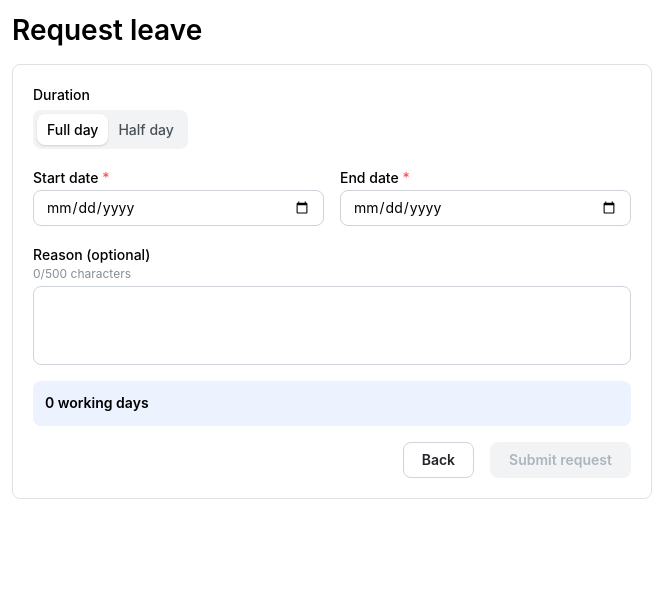
Test: NewRequest › shows server validation errors inline
Type "2026-11-02" into the date field labelled "Start date *". click: coordinates (178, 208)
box: [33, 190, 324, 226]
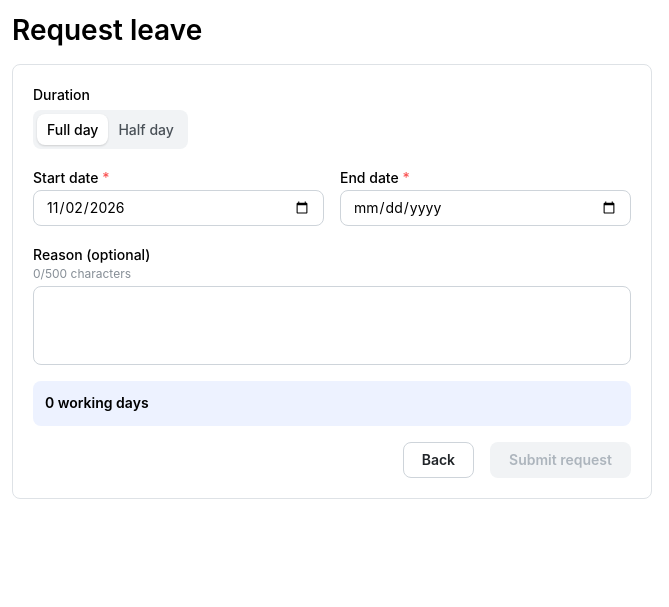
Type "2026-11-03" into the date field labelled "End date *". click: coordinates (486, 208)
box: [340, 190, 631, 226]
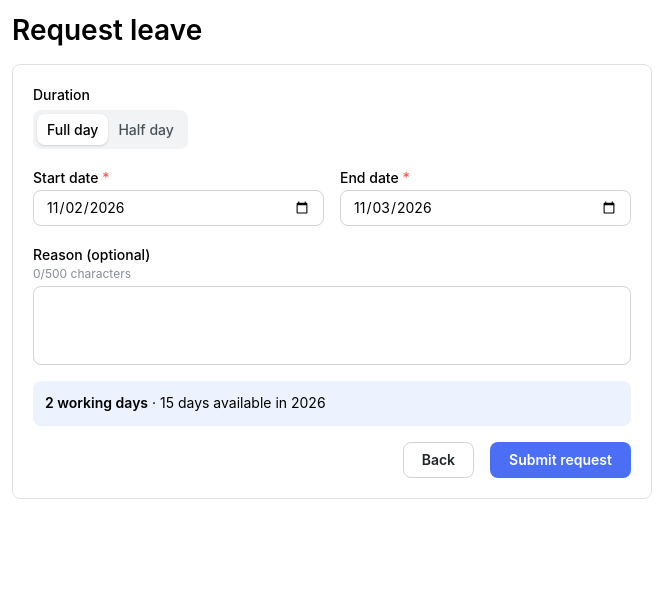
Click the button "Submit request". click: coordinates (561, 460)
box: [490, 442, 631, 478]
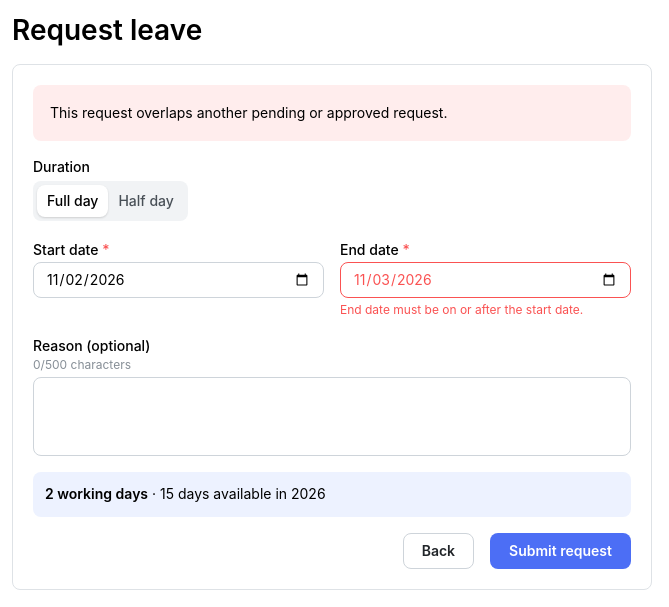
Result: the text "This request overlaps another pending or approved request." is shown at [33, 85, 631, 141]
Result: the text "End date must be on or after the start date." is shown at [340, 302, 583, 317]
